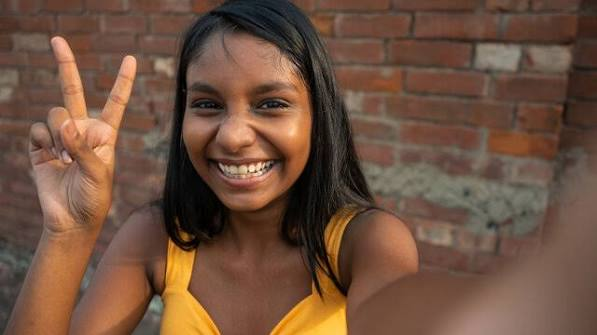peace_sign: (26, 32, 139, 231)
